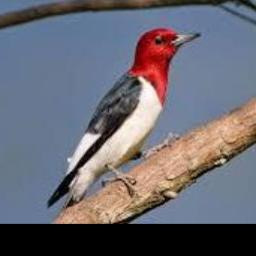Woodpecker: (46, 27, 201, 216)
